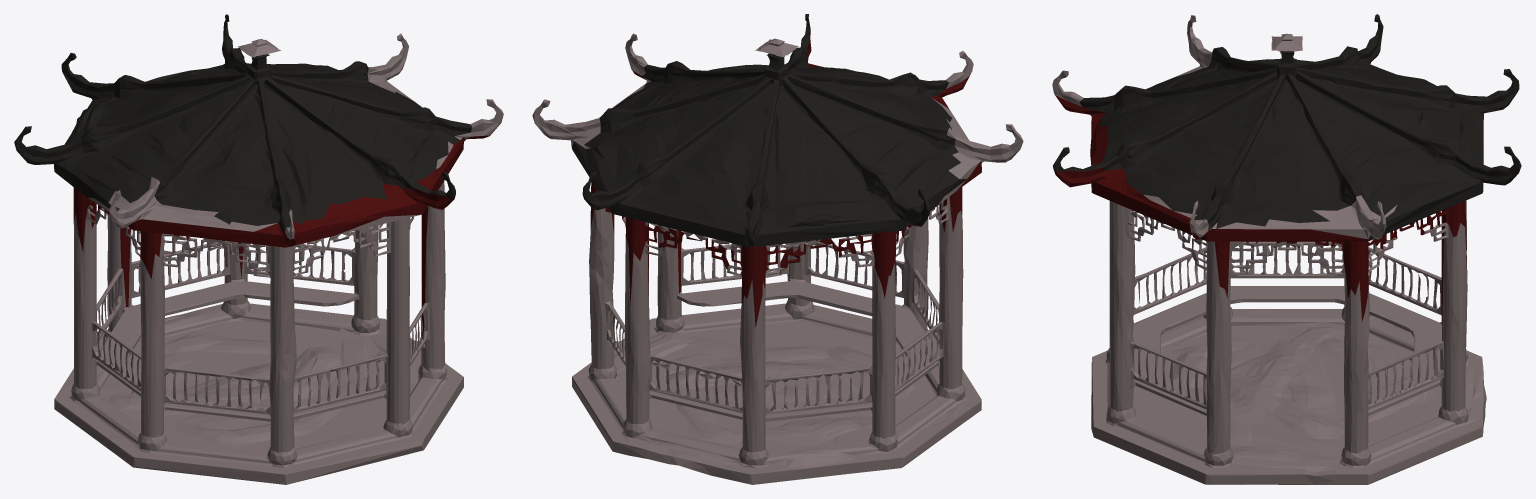
Rendered from Arbor_Island.FBX.
3 renders of one model, left to right at view 1: azimuth 30°, elevation 25°; view 2: azimuth 150°, elevation 25°; view 3: azimuth 270°, elevation 25°, orthographic. The views are drawn at different scales.
Parts seen in each view (by area): view 1: Group7100; view 2: Group7100; view 3: Group7100.
Part boxes in pixels (bbox=[...]): Group7100: bbox=[14, 14, 503, 484]; Group7100: bbox=[532, 14, 1023, 484]; Group7100: bbox=[1052, 14, 1521, 484].
Bounding box in the file's own units: 2574 × 2237 × 2576.
